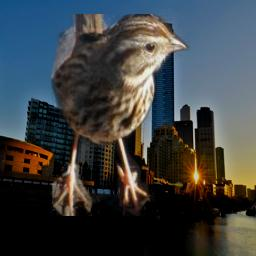Sparrow: (51, 14, 190, 216)
